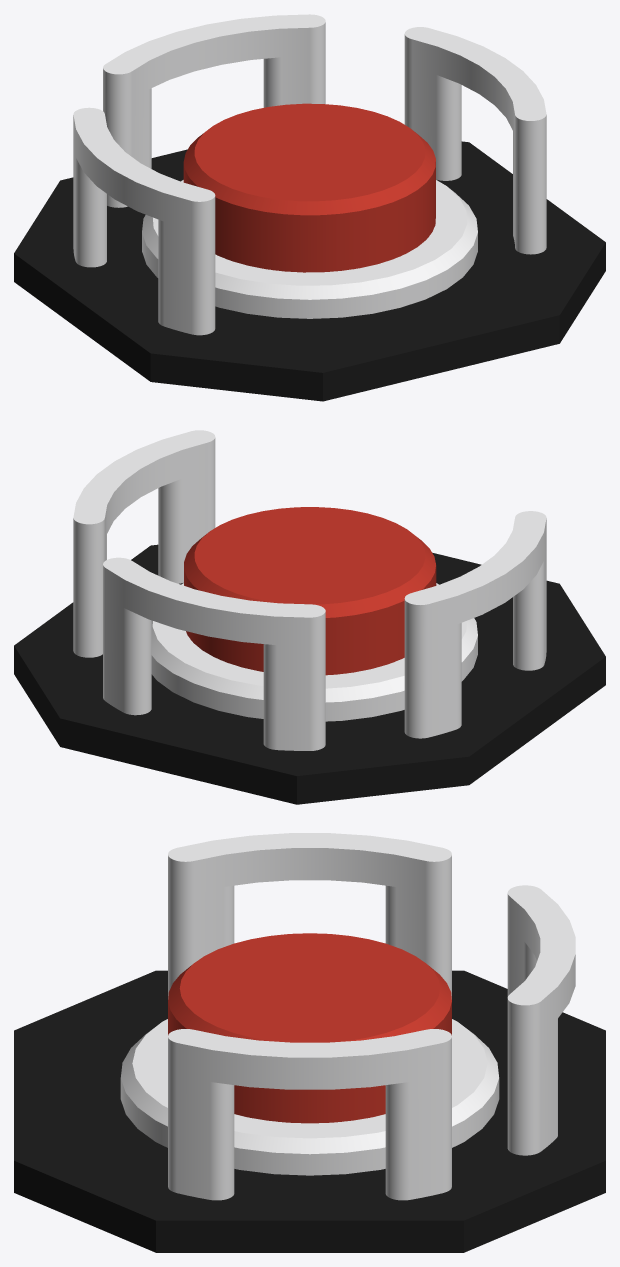
Rendered from button-5-s.obj.
The picture shows the model from 3 angles, top to bottom: view 1: azimuth 30°, elevation 25°; view 2: azimuth 150°, elevation 25°; view 3: azimuth 270°, elevation 25°; orthographic projection. The views are drawn at different scales.
Parts seen in each view (by area): view 1: Body1, Body2; view 2: Body1, Body2; view 3: Body1, Body2.
Part boxes in pixels (x1,y1,x2,y2): Body1: (14, 14, 605, 401); Body2: (183, 103, 435, 272); Body1: (14, 430, 605, 804); Body2: (184, 507, 436, 675); Body1: (14, 833, 605, 1252); Body2: (168, 933, 451, 1123).
Size of the model in its own units: 5 by 1.7 by 5.
